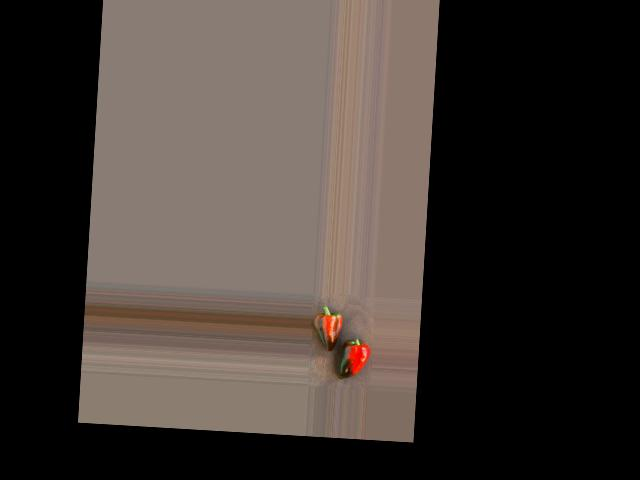bell_pepper: (336, 323, 373, 383)
